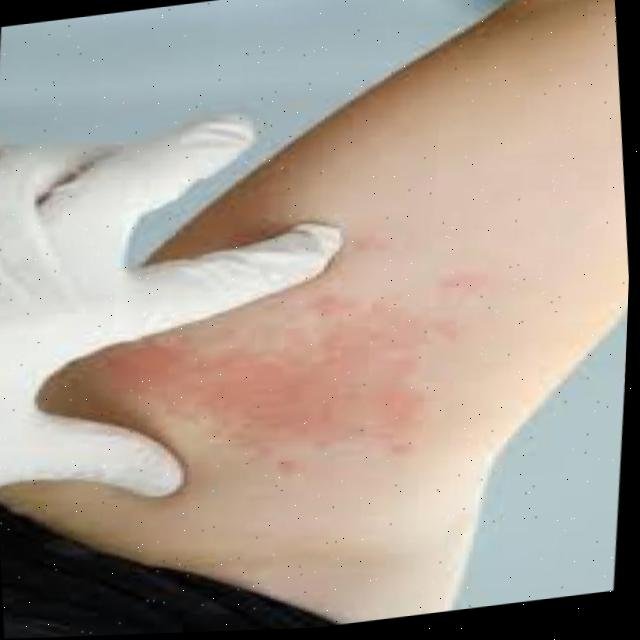Shingles: (206, 300, 440, 477)
